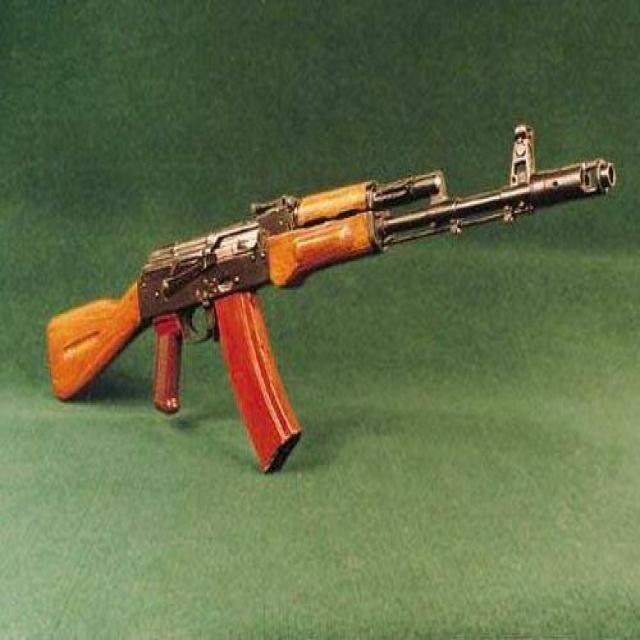Gun: (43, 138, 624, 492)
